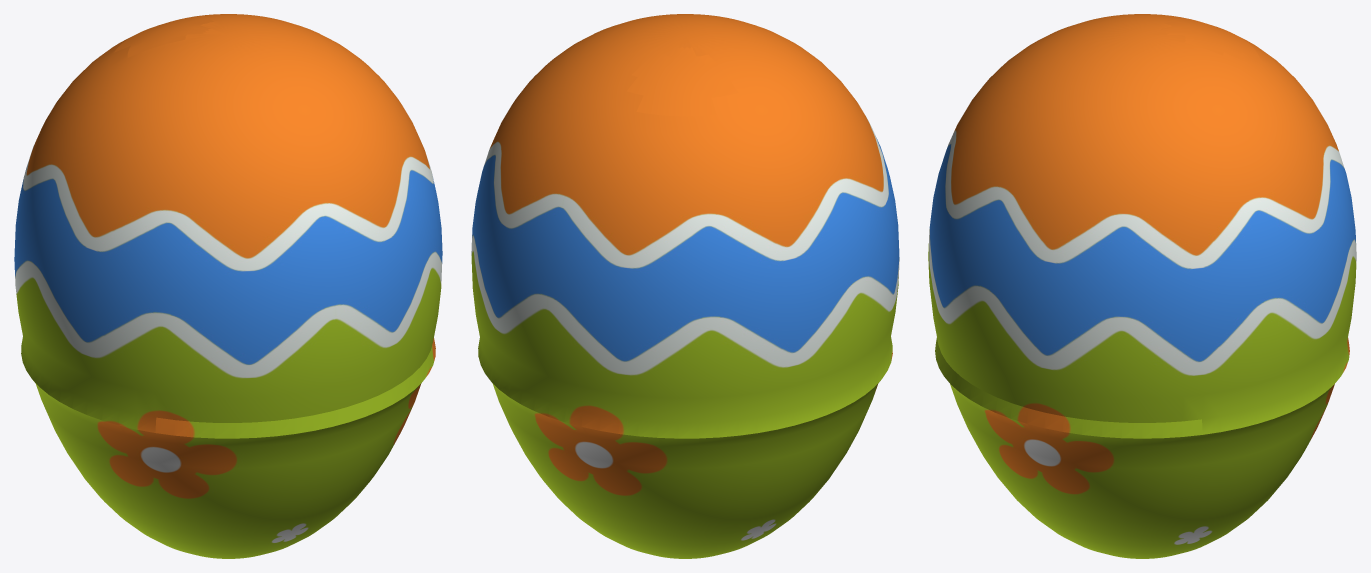
The model's file is animated-egg.glb.
3 renders of one model, left to right at view 1: azimuth 30°, elevation 25°; view 2: azimuth 150°, elevation 25°; view 3: azimuth 270°, elevation 25°, orthographic.
Visible parts, largest first — view 1: bottom_egg, top_egg, main_egg; view 2: bottom_egg, top_egg, main_egg; view 3: bottom_egg, top_egg, main_egg.
Part boxes in pixels (<box>): bottom_egg: <box>14,14,442,432</box>; top_egg: <box>33,380,421,558</box>; main_egg: <box>114,16,435,438</box>; bottom_egg: <box>471,14,899,438</box>; top_egg: <box>492,380,880,558</box>; main_egg: <box>627,47,738,116</box>; bottom_egg: <box>928,14,1356,434</box>; top_egg: <box>950,384,1334,558</box>; main_egg: <box>935,18,1260,438</box>.
Size of the model in its own units: 46.12 by 60.74 by 46.12.
Materials: 1 (1 with a texture image).
